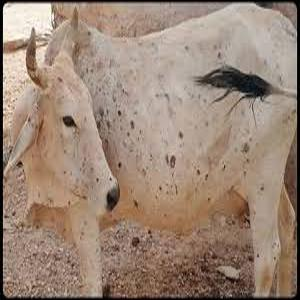lumpy skin diesease: (3, 1, 297, 298), (3, 25, 120, 297)
